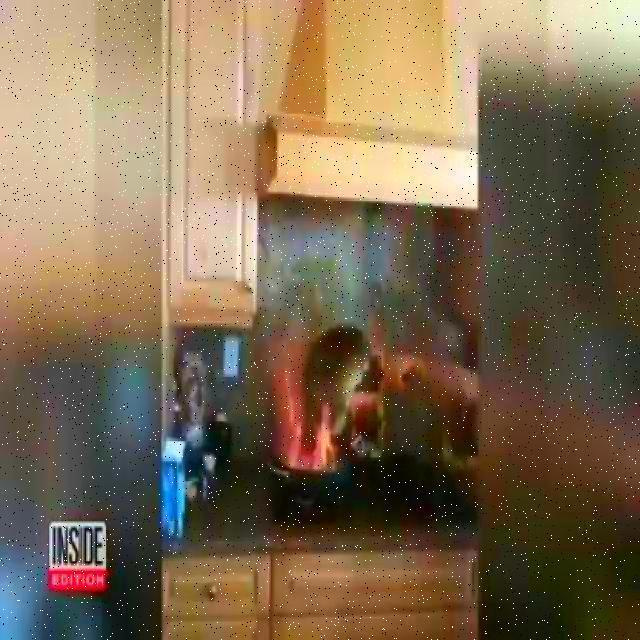smoke: (264, 332, 348, 474)
